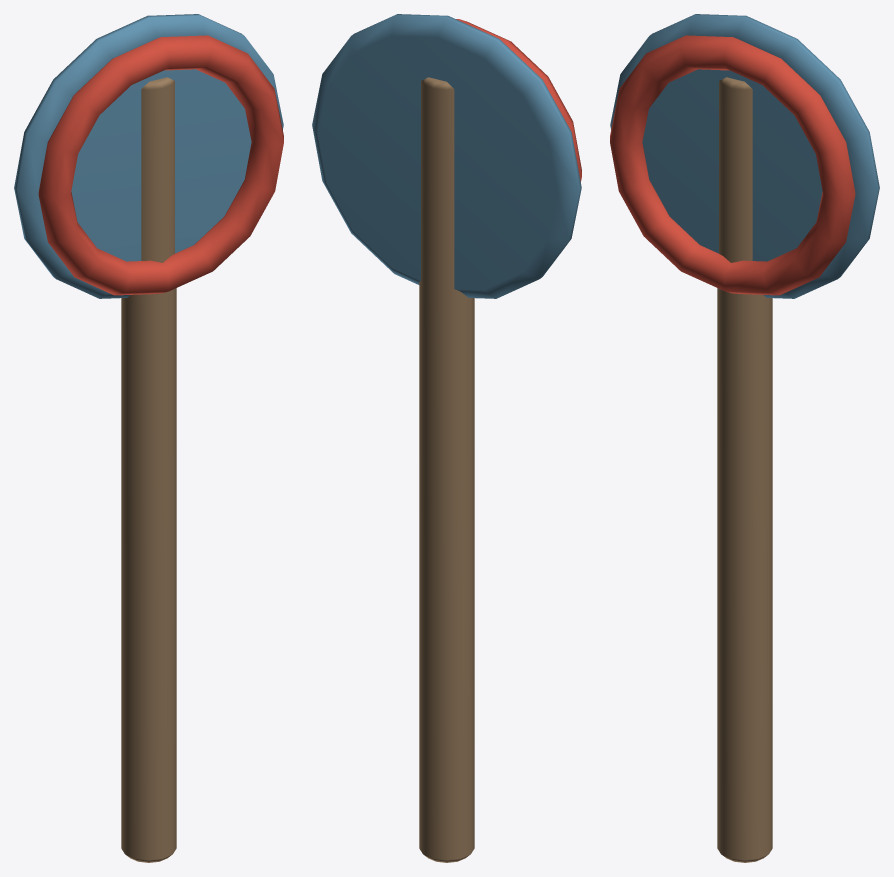
The picture shows the model from 3 angles, left to right: view 1: azimuth 30°, elevation 25°; view 2: azimuth 150°, elevation 25°; view 3: azimuth 330°, elevation 25°; orthographic projection.
Visible parts, largest first — view 1: LOD2_SIGN_NO_PARKING_Pole, LOD2_SIGN_NO_PARKING_Plate, LOD2_SIGN_NO_PARKING_RedRing; view 2: LOD2_SIGN_NO_PARKING_Plate, LOD2_SIGN_NO_PARKING_Pole, LOD2_SIGN_NO_PARKING_RedRing; view 3: LOD2_SIGN_NO_PARKING_Pole, LOD2_SIGN_NO_PARKING_Plate, LOD2_SIGN_NO_PARKING_RedRing.
Part boxes in pixels (x1,y1,x2,y2): LOD2_SIGN_NO_PARKING_Pole: (121, 77, 176, 862); LOD2_SIGN_NO_PARKING_Plate: (14, 14, 283, 298); LOD2_SIGN_NO_PARKING_RedRing: (38, 35, 283, 295); LOD2_SIGN_NO_PARKING_Plate: (312, 14, 581, 298); LOD2_SIGN_NO_PARKING_Pole: (419, 77, 474, 862); LOD2_SIGN_NO_PARKING_RedRing: (456, 19, 581, 182); LOD2_SIGN_NO_PARKING_Pole: (717, 77, 772, 862); LOD2_SIGN_NO_PARKING_Plate: (610, 14, 879, 298); LOD2_SIGN_NO_PARKING_RedRing: (610, 35, 855, 295).
Size of what is drawn, in the model's own units: 1 by 3 by 0.222.
